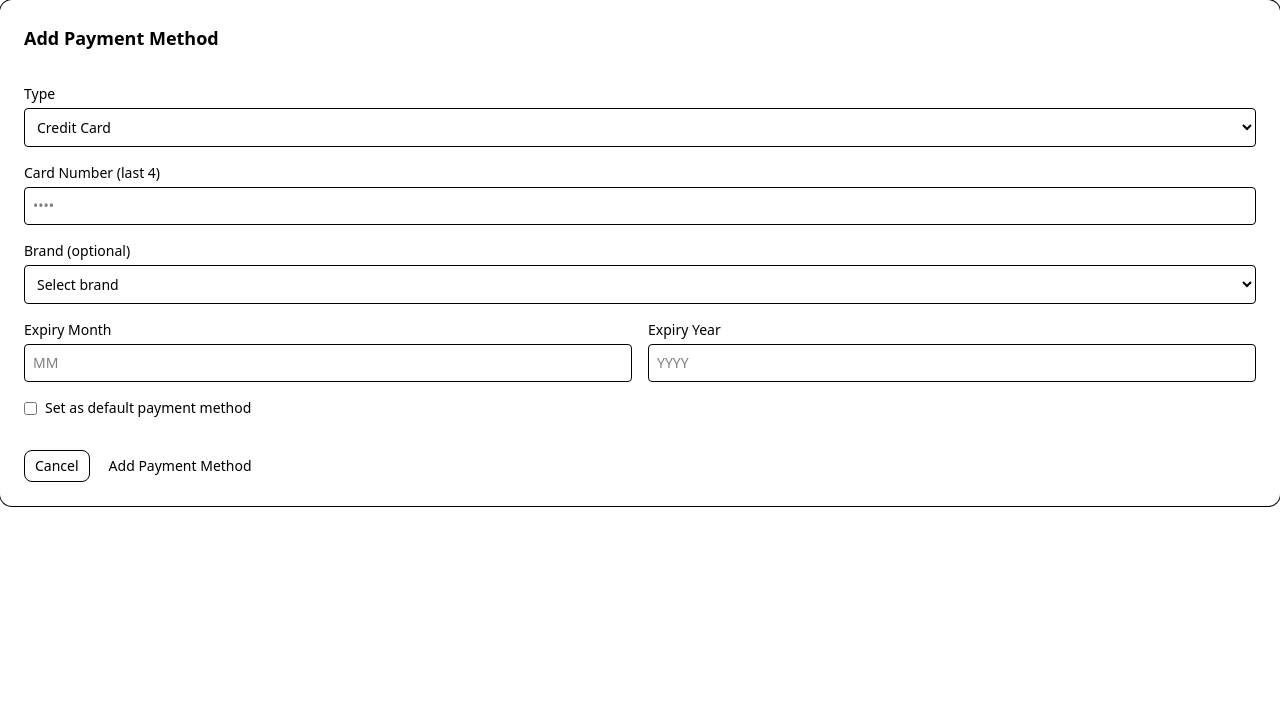
Test: <AddPaymentMethod /> › switches to ACH and hides card fields
Select "Bank Account (ACH)" in the dropdown below "Type". click: (640, 128)
box: [24,108,1256,147]
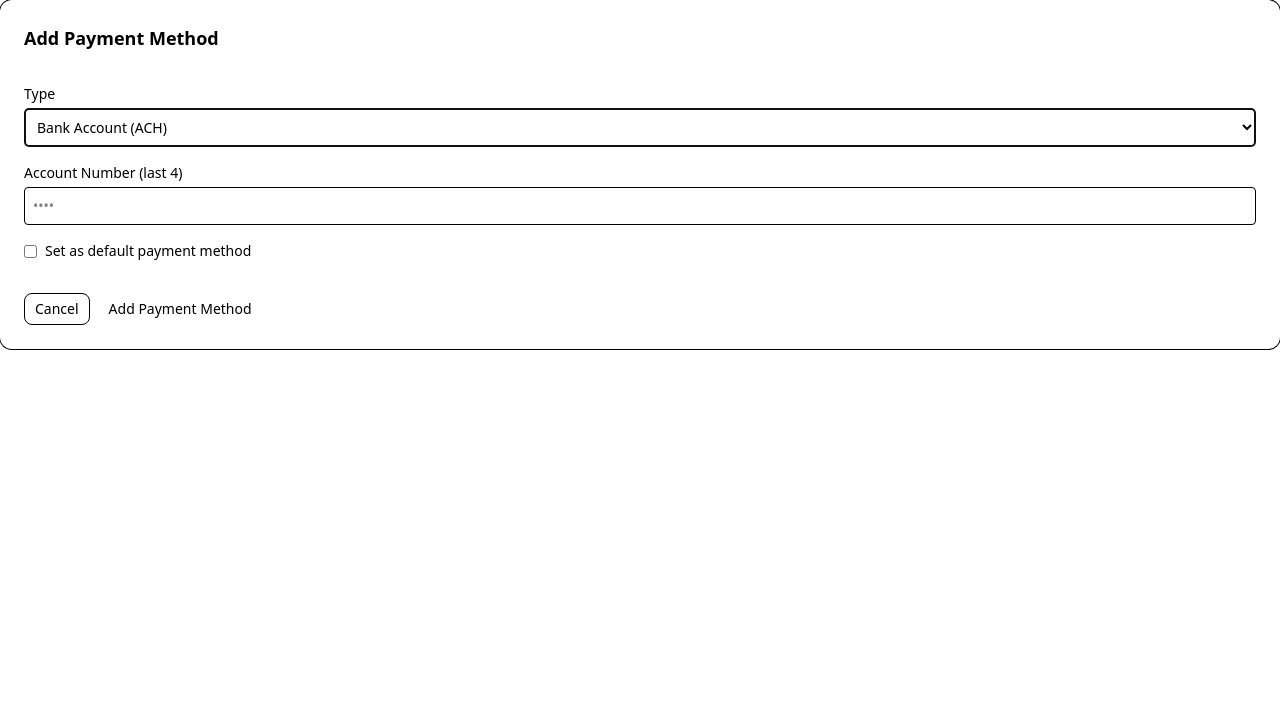
Expected: the field with placeholder "••••" is shown, [24,187,1256,225]
Expected: the number field with placeholder "MM" is gone
